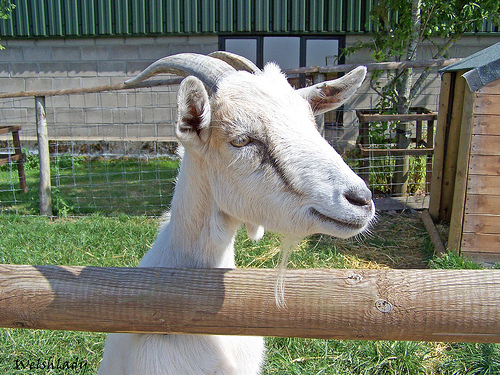goat: (95, 49, 378, 375)
